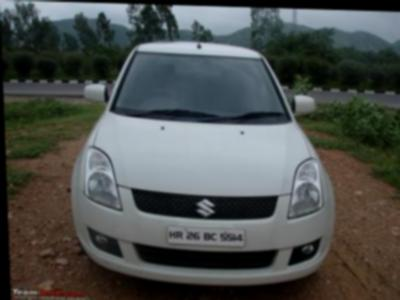License_Plate: (166, 225, 245, 248)
